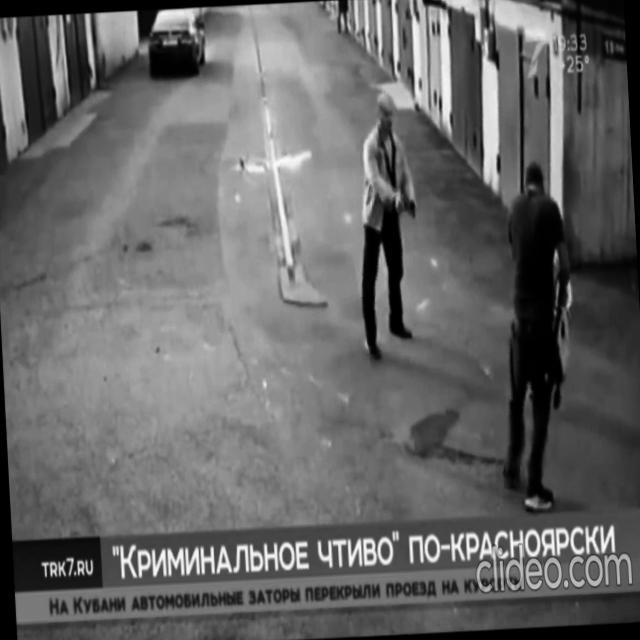gun: (398, 189, 412, 220)
person: (487, 158, 585, 513)
person with a gun: (352, 90, 426, 367)
